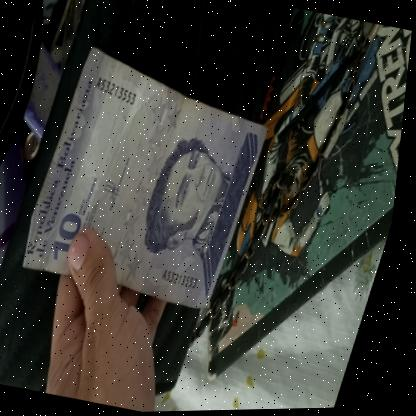ten-front-vef: (16, 37, 287, 318)
